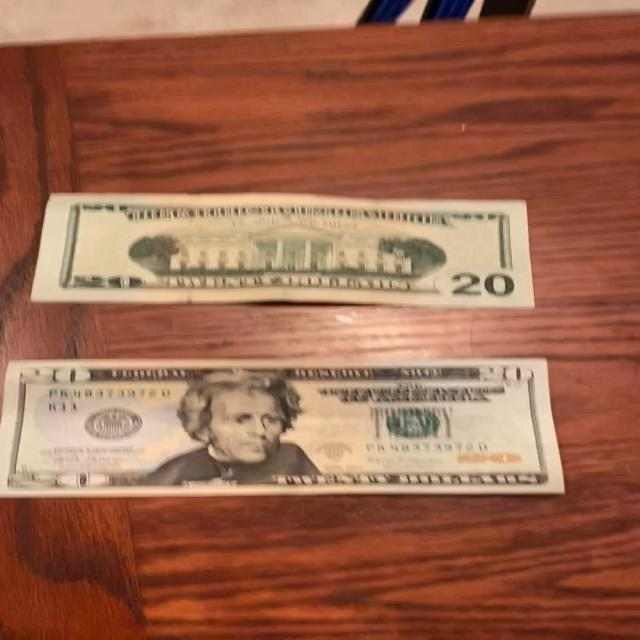20-Back: (31, 187, 544, 317)
20-Front: (0, 352, 578, 503)
